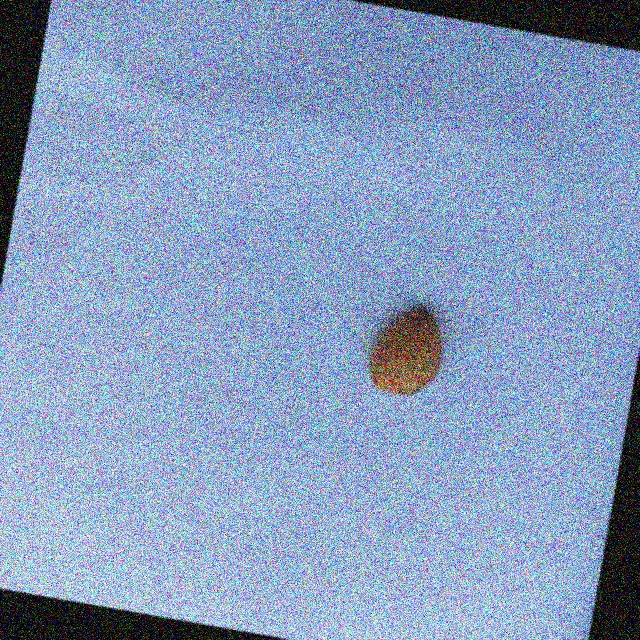grade2: (358, 296, 453, 405)
